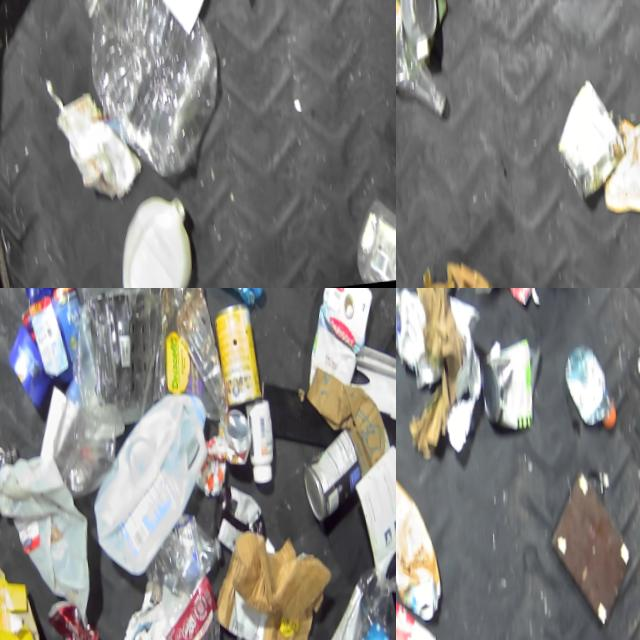can: (551, 76, 625, 212), (297, 437, 365, 534), (477, 345, 535, 441), (199, 417, 252, 498), (396, 0, 435, 60), (46, 597, 97, 640)
milk_jug: (86, 397, 217, 578), (0, 452, 88, 610)
non_white_jug: (396, 462, 441, 632), (19, 288, 84, 397)
plastic_bottle: (396, 0, 447, 123), (561, 350, 615, 441)
